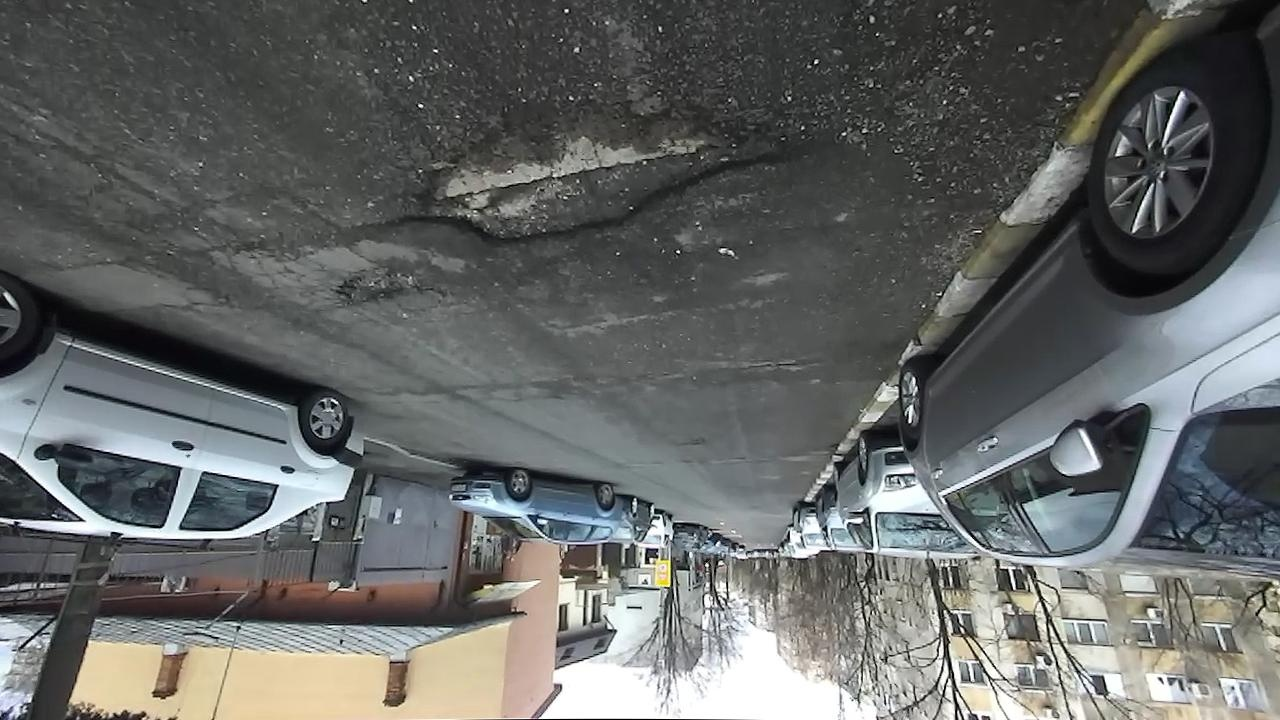pothole: (381, 98, 814, 250), (323, 262, 445, 313), (732, 352, 814, 377)
